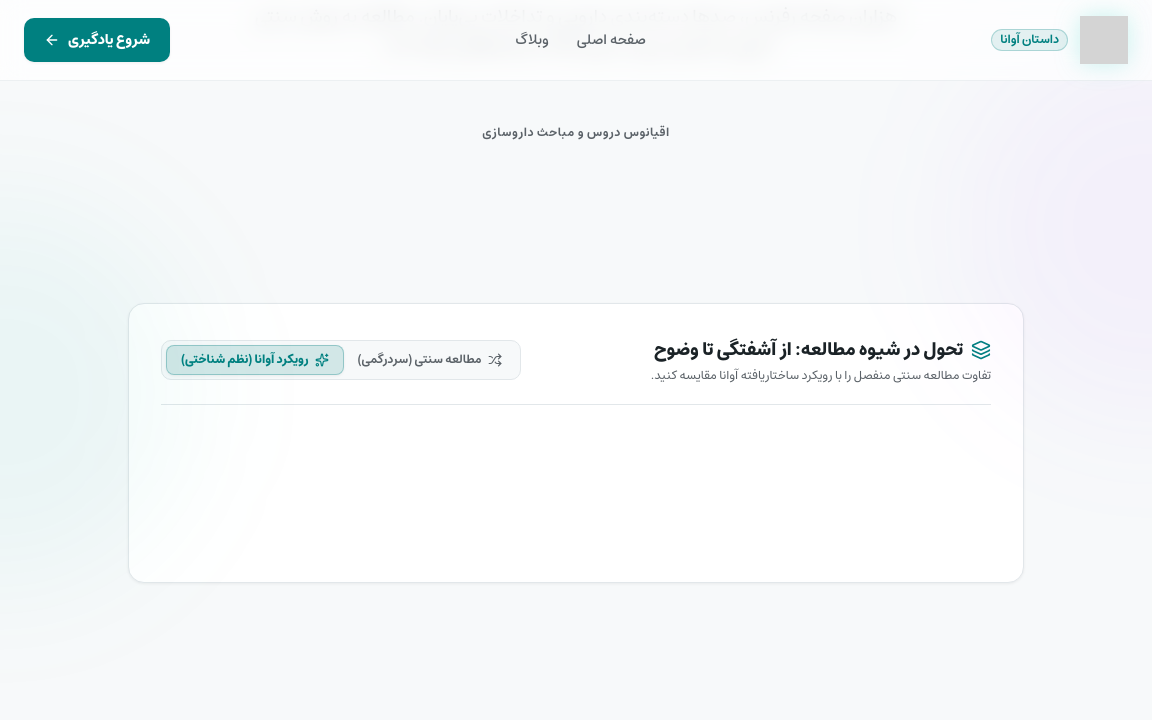
Scenario: AboutPage (صفحه درباره ما) Complete Narrative Experience Suite › 3. Section 2: Toggles between Traditional Overload vs AVANA Structured Taxonomy
(page scrolled)
Note: Switch to Traditional Overload tab
Click the tab "مطالعه سنتی (سردرگمی)": click(430, 360) x1=344 y1=345 x2=516 y2=375
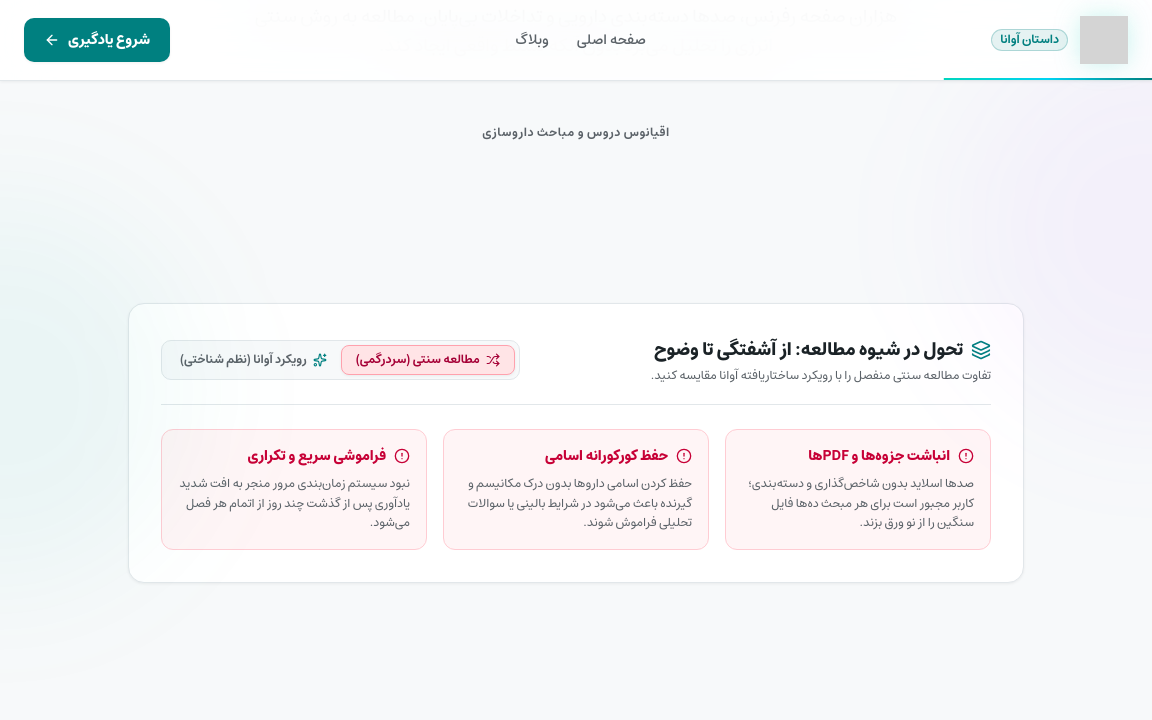
Result: the text "انباشت جزوه‌ها و PDFها" is shown at x1=808 y1=446 x2=950 y2=466
Result: the text "حفظ کورکورانه اسامی" is shown at x1=545 y1=446 x2=668 y2=466
